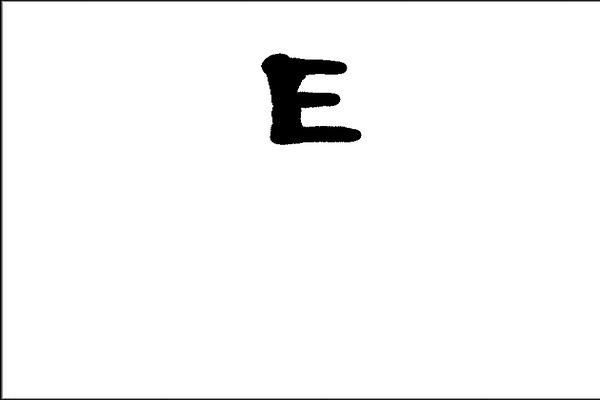E: (257, 47, 364, 156)
